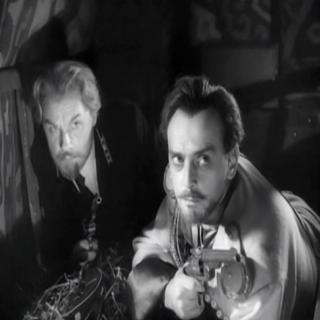gun: (184, 244, 242, 304)
